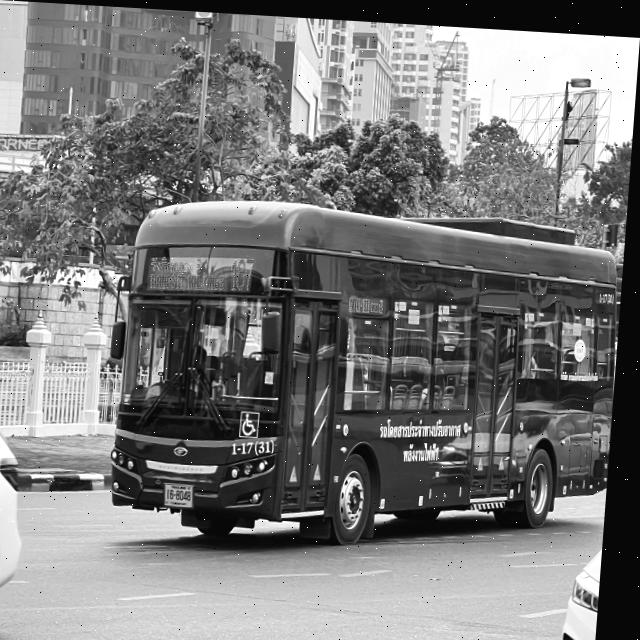Bus Line Number: (231, 252, 262, 294)
Bus Side Number: (236, 434, 285, 456)
Destination Sign: (149, 250, 233, 292)
TSB-Bus: (116, 198, 625, 541)
